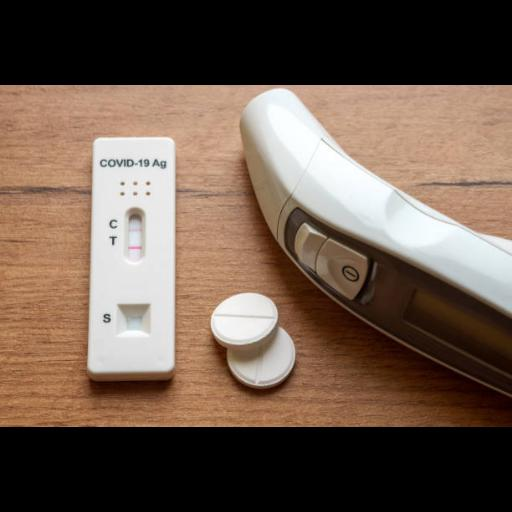Pos: (91, 136, 173, 370)
